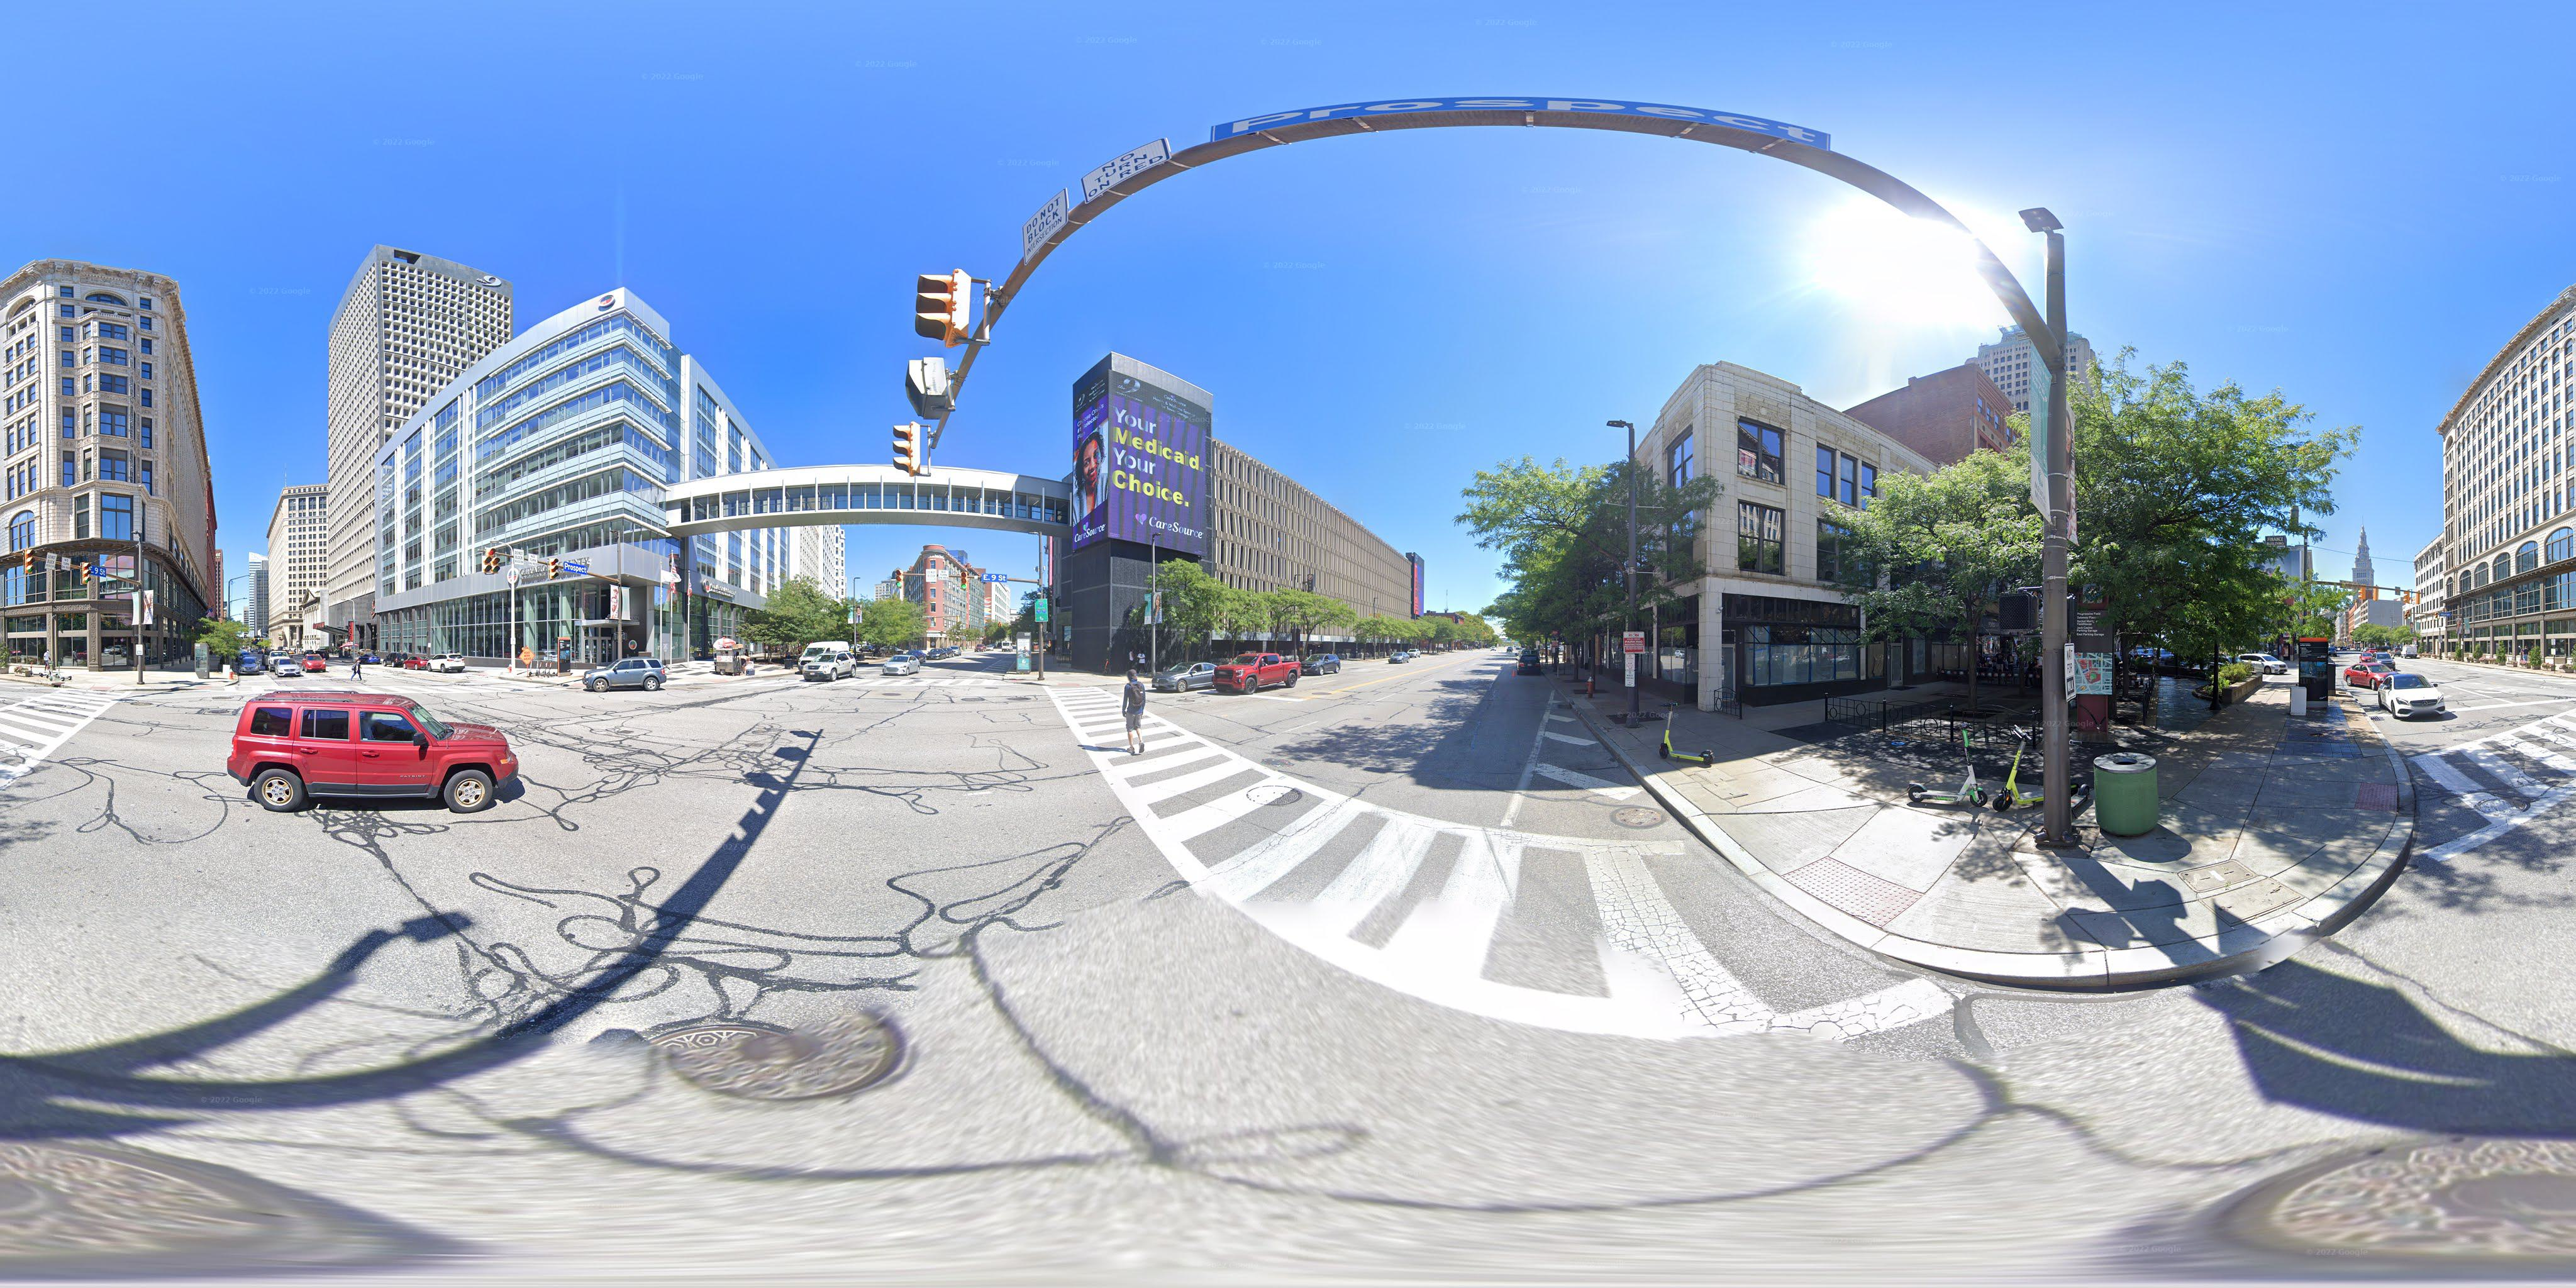Curb Ramp: (1748, 802, 1965, 964), (2323, 756, 2415, 844), (1051, 680, 1084, 690), (703, 675, 731, 687), (1005, 675, 1027, 687), (570, 677, 585, 692), (194, 683, 215, 690)
Irregular Ramp: (87, 682, 113, 695)
